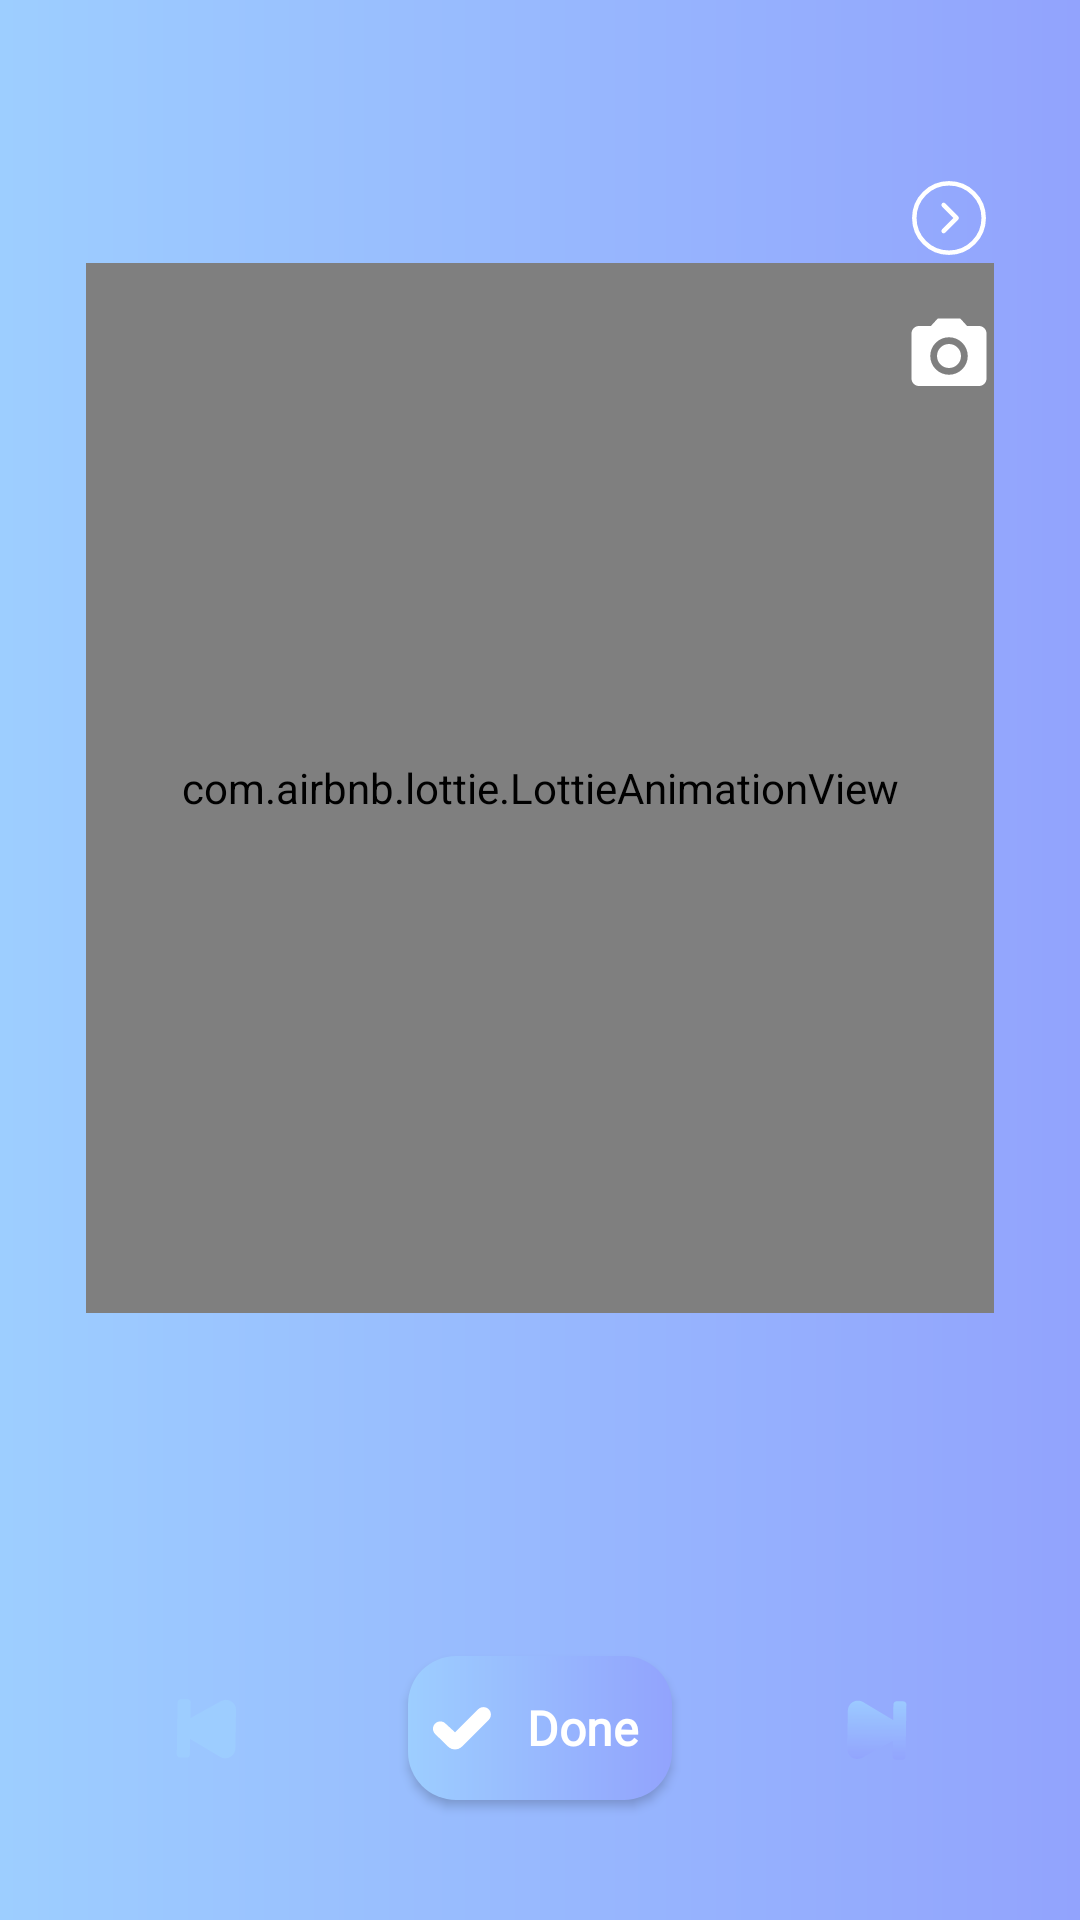

Icon click points for this 1080px x 1920px phone screenshot, format point (x, y):
arrow right: point (949, 218)
camera: point (949, 352)
